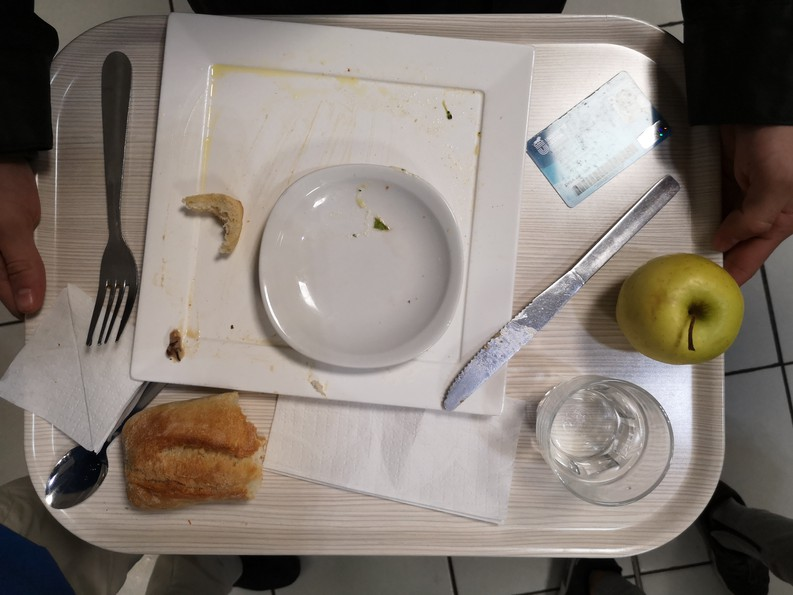cutlery: (437, 174, 690, 417), (81, 47, 147, 346), (44, 380, 168, 514)
orga: (116, 387, 258, 519), (619, 249, 745, 369), (176, 187, 247, 267)
trash: (272, 361, 519, 528), (1, 278, 148, 454)
